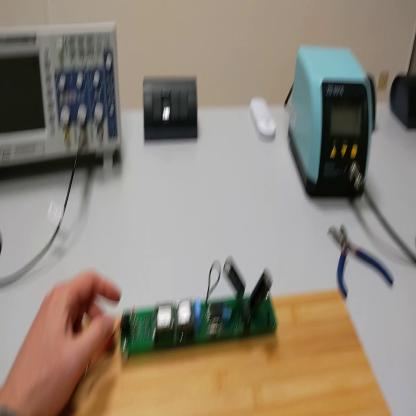hand: (2, 267, 123, 416)
high voltage board: (121, 256, 284, 355)
oscilloscope: (2, 25, 124, 180)
pliers: (328, 222, 394, 299)
socket: (388, 74, 416, 134), (367, 76, 380, 135)
welder station: (288, 47, 374, 205)
working area: (57, 291, 393, 415)
